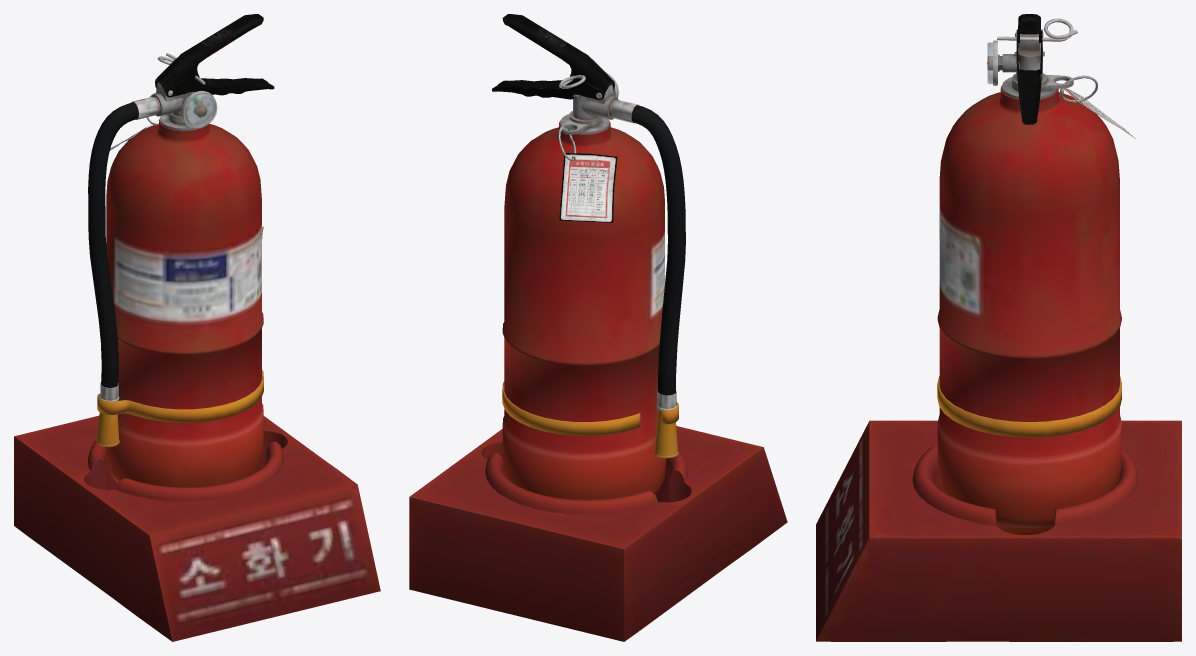
The model's file is korean_fire_extinguisher_01.glb.
3 renders of one model, left to right at view 1: azimuth 30°, elevation 25°; view 2: azimuth 150°, elevation 25°; view 3: azimuth 270°, elevation 25°, orthographic. The views are drawn at different scales.
Visible parts, largest first — view 1: korean_fire_extinguisher_01; view 2: korean_fire_extinguisher_01; view 3: korean_fire_extinguisher_01.
Part boxes in pixels (x1,y1,x2,y2): korean_fire_extinguisher_01: (14,14,380,641); korean_fire_extinguisher_01: (409,14,787,641); korean_fire_extinguisher_01: (816,14,1181,641).
Bounding box in the file's own units: 0.2799 × 0.6593 × 0.3674.
Materials: 3 (3 with a texture image).
